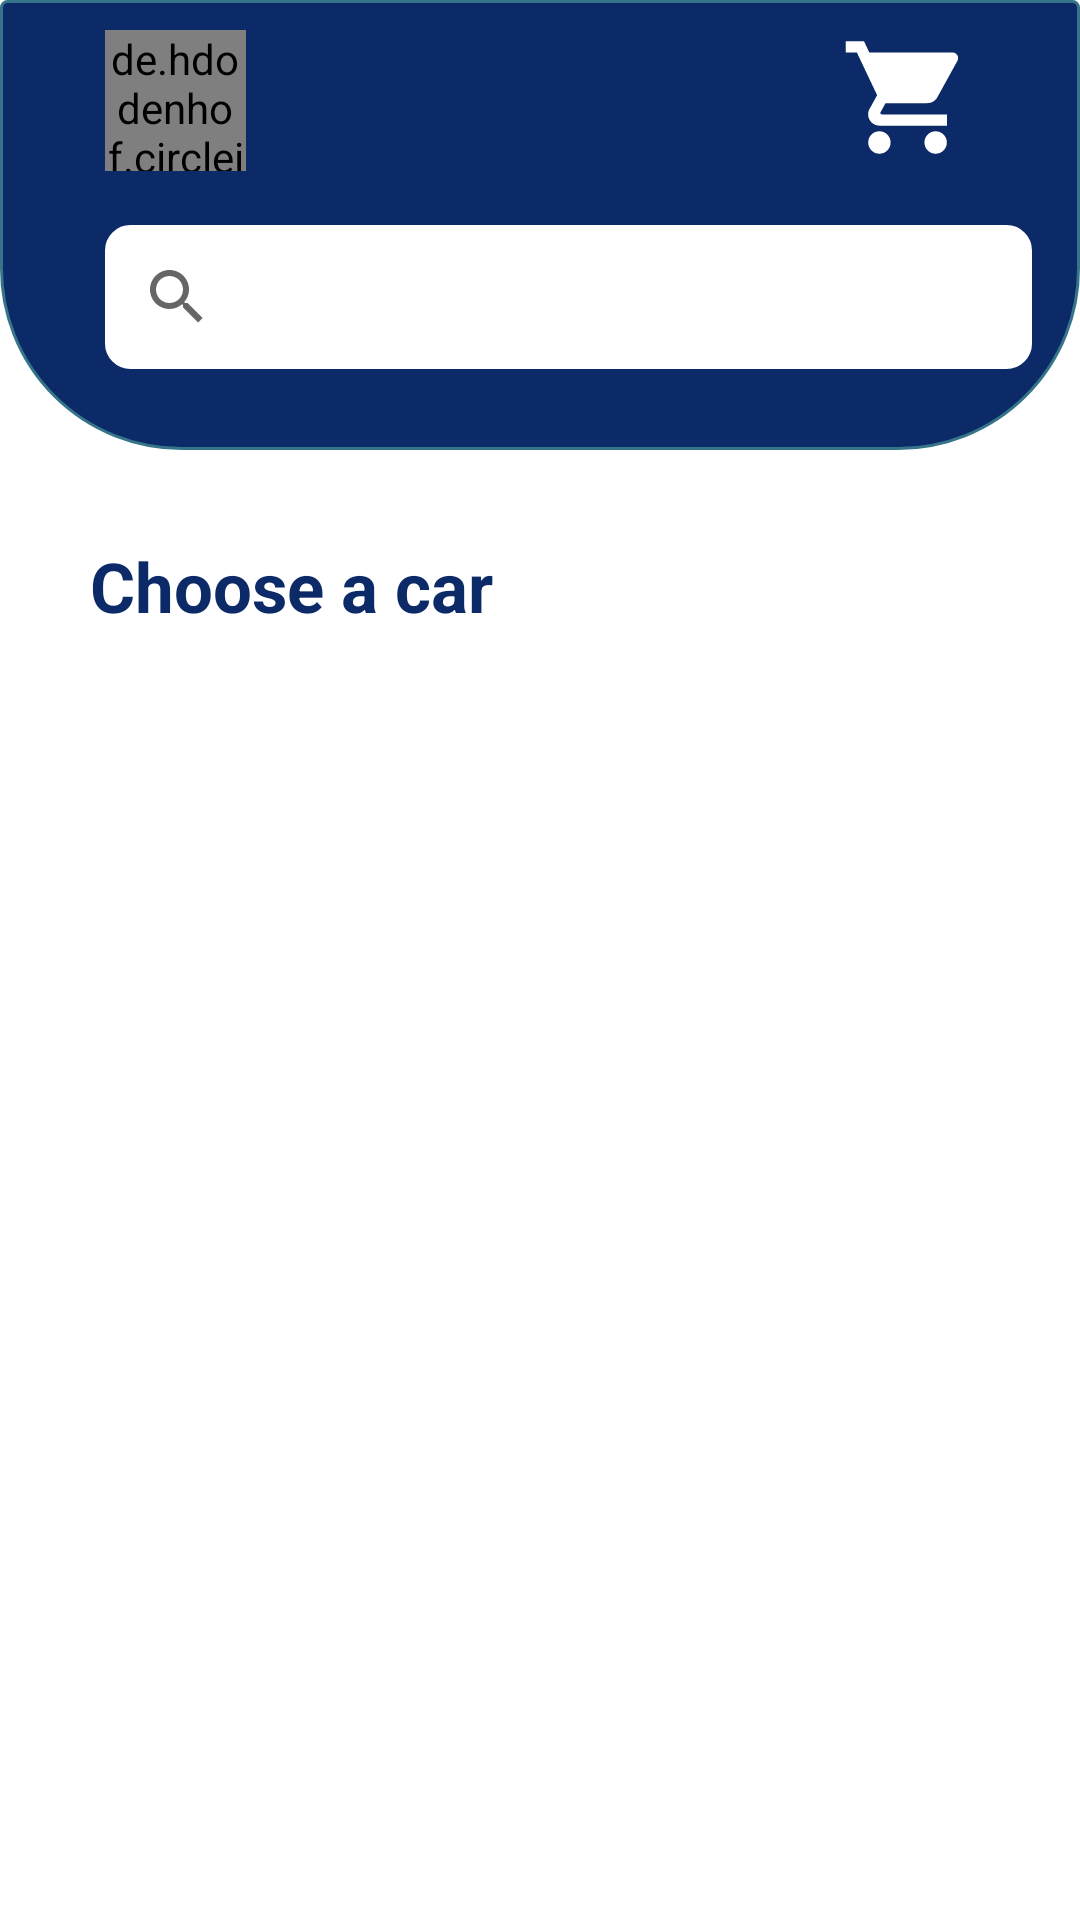

Where icons sit on this 1080 x 1920 app screen, as (x1, y1, x2, y2):
realshoppingcart: (845, 41, 958, 154)
